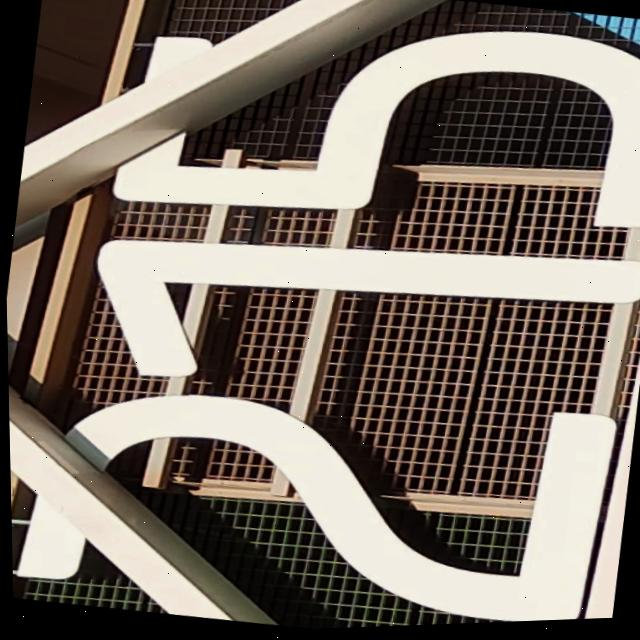character: (8, 327, 638, 640), (73, 178, 640, 448), (99, 0, 640, 277)
